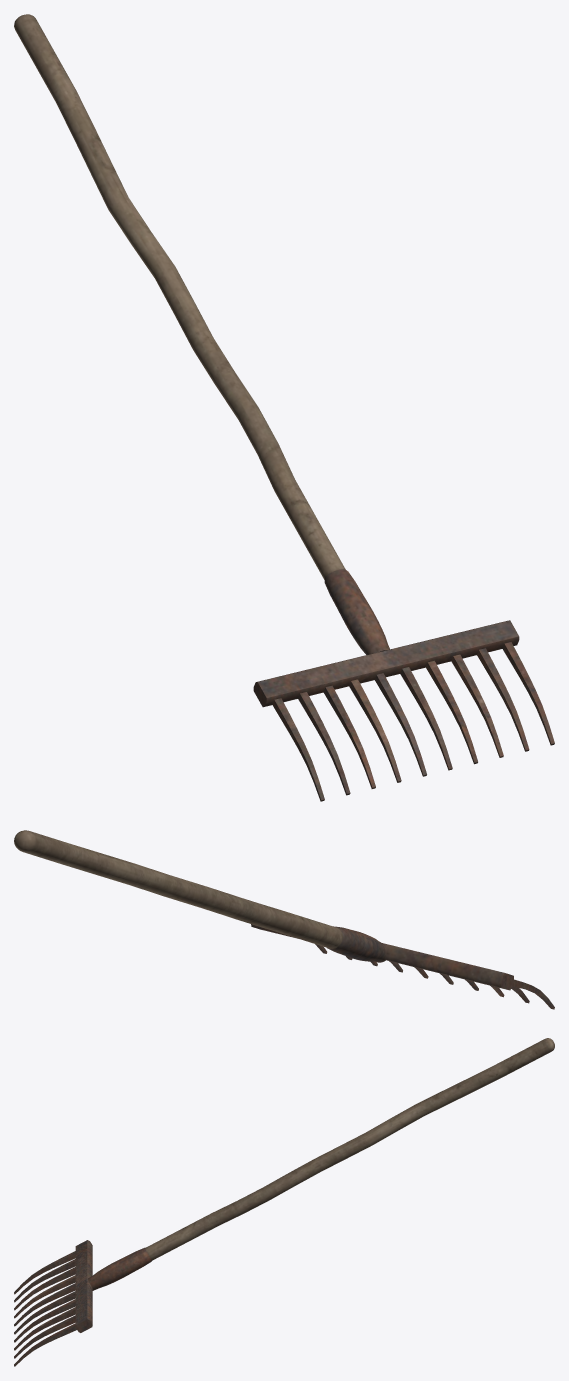
Rendered from Rastrillo Animado.fbx.
3 renders of one model, top to bottom at view 1: azimuth 30°, elevation 25°; view 2: azimuth 150°, elevation 25°; view 3: azimuth 270°, elevation 25°, orthographic. The views are drawn at different scales.
Visible parts, largest first — view 1: Rastrillo; view 2: Rastrillo; view 3: Rastrillo.
Part boxes in pixels (x1=…): Rastrillo: x1=14, y1=14, x2=554, y2=801; Rastrillo: x1=14, y1=830, x2=554, y2=1009; Rastrillo: x1=14, y1=1038, x2=554, y2=1366.
Bounding box in the file's own units: 30.97 × 53.2 × 89.22.
